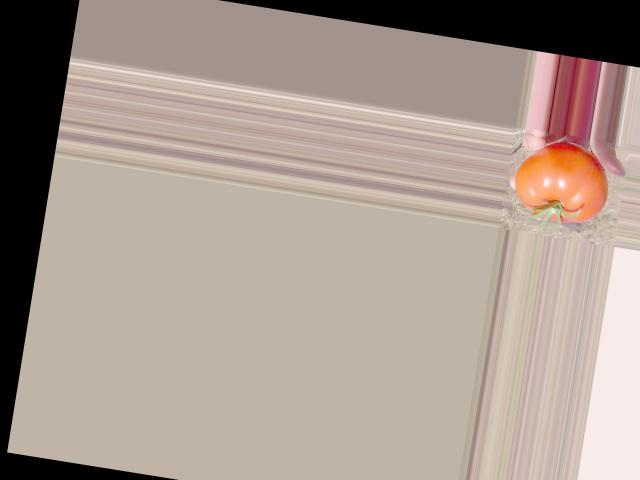tomato: (509, 135, 614, 228)
